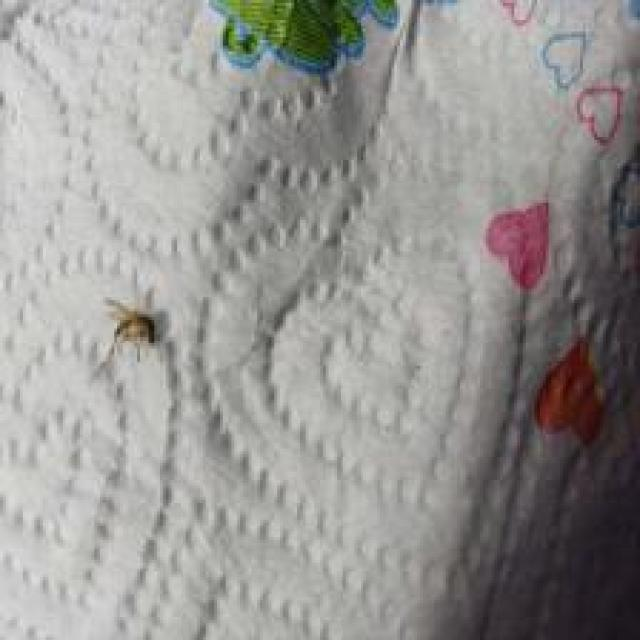Culex: (202, 0, 404, 86)
